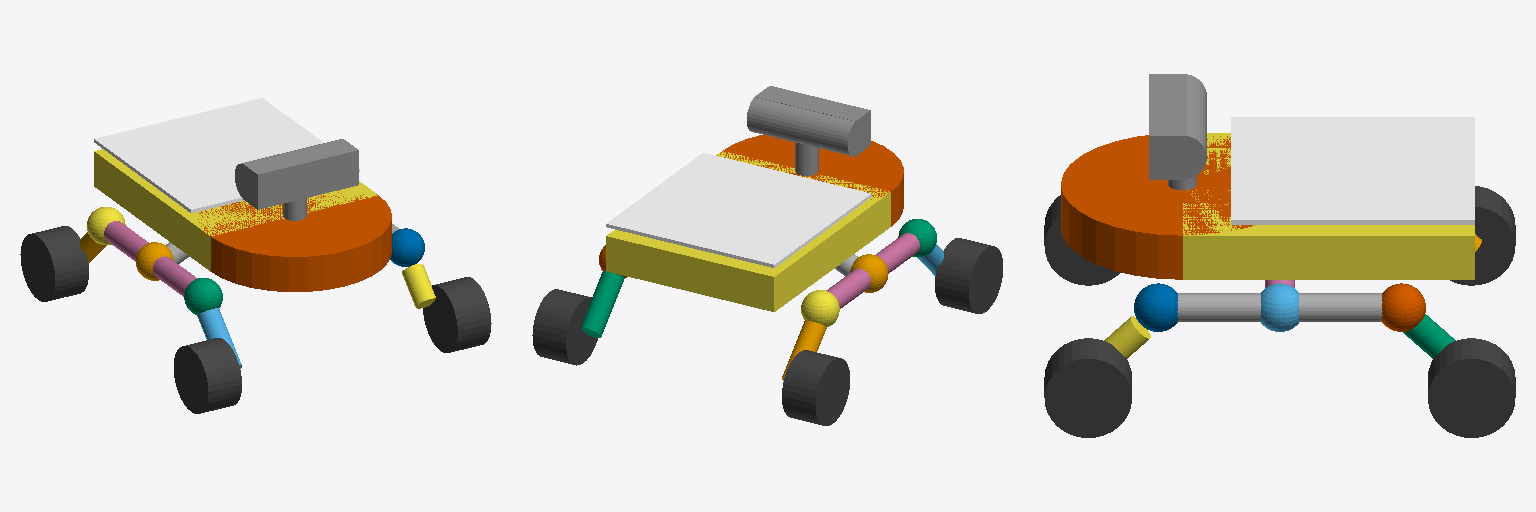
robot.urdf — model:
<?xml version="1.0"?>

<robot name="model">

    <material name=''>
      <color rgba="0.8 0.8 0.8 2"/>
    </material>

    <material name='dgray'>
      <color rgba="0.3 0.3 0.3 2"/>
    </material>

    <material name='white'>
      <color rgba="1 1 1 2"/>
    </material>

    <material name='gray'>
      <color rgba="0.6 0.6 0.6 2"/>
    </material>

    <material name='blue'>
      <color rgba="0.113 0.113 0.466 2"/>
    </material>

    <link name="head_cyll1">
        <visual>
          <geometry>
            <cylinder length="0.15" radius="0.03"/>
          </geometry>
          <origin xyz="0 -0.3 0.1"/>
          <material name='gray'/>
        </visual>
        <inertial>
            <mass value="30"/>
              <inertia ixx="0.4" ixy="0.0" ixz="0.0" iyy="0.4" iyz="0.0" izz="0.2"/>
        </inertial>
    </link>

    <link name="head_cyll2">
        <visual>
          <geometry>
            <cylinder length="0.3" radius="0.05"/>
          </geometry>
          <origin rpy="0 1.57075 0" xyz="0 -0.3 0.18"/>
          <material name='gray'/>
        </visual>
        <inertial>
            <mass value="75"/>
              <inertia ixx="0.4" ixy="0.0" ixz="0.0" iyy="0.4" iyz="0.0" izz="0.2"/>
        </inertial>
    </link>

    <link name="head_box1">
        <visual>
          <geometry>
            <box size="0.3 0.078 0.1"/>
          </geometry>
          <origin xyz="0 -0.33 0.18"/>
          <material name='gray'/>
        </visual>
        <inertial>
            <mass value="200"/>
              <inertia ixx="0.4" ixy="0.0" ixz="0.0" iyy="0.4" iyz="0.0" izz="0.2"/>
        </inertial>
    </link>

    
    <link name="body_box">
        <visual>
          <geometry>
            <box size="0.5 0.6 0.1"/>
          </geometry>
        </visual>
        <collision>
        <geometry>
            <box size="0.5 0.6 0.1"/>
          </geometry>
        </collision>
        <inertial>
            <mass value="300"/>
              <inertia ixx="0.4" ixy="0.0" ixz="0.0" iyy="0.4" iyz="0.0" izz="0.2"/>
        </inertial>
      </link>
    
    <link name="solar_panel">
        <visual>
          <geometry>
            <box size="0.5 0.5 0.01"/>
          </geometry>
          <origin xyz="0 0.05 0.08"/>
          <material name='white'/>
        </visual>
        <collision>
        <geometry>
            <box size="0.5 0.6 0.01"/>
          </geometry>
        </collision>
        <inertial>
            <mass value="10"/>
              <inertia ixx="0.4" ixy="0.0" ixz="0.0" iyy="0.4" iyz="0.0" izz="0.2"/>
        </inertial>
      </link>

    <link name="body_cyll">
        <visual>
          <geometry>
            <cylinder length="0.1" radius="0.25"/>
          </geometry>
          <origin xyz="0 -0.3 0"/>
        </visual>
        <inertial>
            <mass value="200"/>
              <inertia ixx="0.4" ixy="0.0" ixz="0.0" iyy="0.4" iyz="0.0" izz="0.2"/>
        </inertial>
    </link>

    <link name="rwheelbase">
        <visual>
          <geometry>
            <cylinder length="0.25" radius="0.03"/>
          </geometry>
          <origin rpy="0 2 0" xyz="0.2 -0.1 -0.06"/>
        </visual>
        <inertial>
            <mass value="10"/>
              <inertia ixx="0.4" ixy="0.0" ixz="0.0" iyy="0.4" iyz="0.0" izz="0.2"/>
        </inertial>
    </link>

    <link name="lwheelbase">
        <visual>
          <geometry>
            <cylinder length="0.25" radius="0.03"/>
          </geometry>
          <origin rpy="0 -2 0" xyz="-0.2 -0.1 -0.06"/>
        </visual>
        <inertial>
            <mass value="10"/>
              <inertia ixx="0.4" ixy="0.0" ixz="0.0" iyy="0.4" iyz="0.0" izz="0.2"/>
        </inertial>
    </link>

    <link name="lwheelbase_sphere">
        <visual>
          <geometry>
            <sphere radius="0.05"/>
          </geometry>
          <origin xyz="-0.3 -0.1 -0.09"/>
        </visual>
        <inertial>
            <mass value="5"/>
              <inertia ixx="0.4" ixy="0.0" ixz="0.0" iyy="0.4" iyz="0.0" izz="0.2"/>
        </inertial>
    </link>

    <link name="rwheelbase_sphere">
        <visual>
          <geometry>
            <sphere radius="0.05"/>
          </geometry>
          <origin xyz="0.3 -0.1 -0.09"/>
        </visual>
        <inertial>
            <mass value="5"/>
              <inertia ixx="0.4" ixy="0.0" ixz="0.0" iyy="0.4" iyz="0.0" izz="0.2"/>
        </inertial>
    </link>

    <link name="left_lwheel_sphere_to_wheel">
        <visual>
          <geometry>
            <sphere radius="0.05"/>
          </geometry>
          <origin xyz="-0.3 -0.35 -0.09"/>
        </visual>
        <inertial>
            <mass value="5"/>
              <inertia ixx="0.4" ixy="0.0" ixz="0.0" iyy="0.4" iyz="0.0" izz="0.2"/>
        </inertial>
    </link>

    <link name="left_rwheel_sphere_to_wheel">
        <visual>
          <geometry>
            <sphere radius="0.05"/>
          </geometry>
          <origin xyz="-0.3 0.15 -0.09"/>
        </visual>
        <inertial>
            <mass value="5"/>
              <inertia ixx="0.4" ixy="0.0" ixz="0.0" iyy="0.4" iyz="0.0" izz="0.2"/>
        </inertial>
    </link>

    <link name="right_lwheel_sphere_to_wheel">
        <visual>
          <geometry>
            <sphere radius="0.05"/>
          </geometry>
          <origin xyz="0.3 -0.35 -0.09"/>
        </visual>
        <inertial>
            <mass value="5"/>
              <inertia ixx="0.4" ixy="0.0" ixz="0.0" iyy="0.4" iyz="0.0" izz="0.2"/>
        </inertial>
    </link>

    <link name="right_rwheel_sphere_to_wheel">
        <visual>
          <geometry>
            <sphere radius="0.05"/>
          </geometry>
          <origin xyz="0.3 0.15 -0.09"/>
        </visual>
        <inertial>
            <mass value="5"/>
              <inertia ixx="0.4" ixy="0.0" ixz="0.0" iyy="0.4" iyz="0.0" izz="0.2"/>
        </inertial>
    </link>

    <link name="lwheel_cyll">
        <visual>
          <geometry>
            <cylinder length="0.5" radius="0.03"/>
          </geometry>
          <origin rpy="1.57075 0 0" xyz="-0.3 -0.1 -0.09"/>
        </visual>
        <inertial>
            <mass value="10"/>
              <inertia ixx="0.4" ixy="0.0" ixz="0.0" iyy="0.4" iyz="0.0" izz="0.2"/>
        </inertial>
    </link>

    <link name="rwheel_cyll">
        <visual>
          <geometry>
            <cylinder length="0.5" radius="0.03"/>
          </geometry>
          <origin rpy="1.57075 0 0" xyz="0.3 -0.1 -0.09"/>
        </visual>
        <inertial>
            <mass value="10"/>
              <inertia ixx="0.4" ixy="0.0" ixz="0.0" iyy="0.4" iyz="0.0" izz="0.2"/>
        </inertial>
    </link>

    <link name="left_lwheel_cyll">
        <visual>
          <geometry>
            <cylinder length="0.2" radius="0.03"/>
          </geometry>
          <origin xyz="0 0 -0.1"/>
        </visual>
        <collision>
          <geometry>
            <cylinder length="0.2" radius="0.03"/>
          </geometry>
          <origin xyz="0 0 -0.1"/>
        </collision>
        <inertial>
            <mass value="10"/>
              <inertia ixx="0.4" ixy="0.0" ixz="0.0" iyy="0.4" iyz="0.0" izz="0.2"/>
        </inertial>
    </link>

    <link name="right_lwheel_cyll">
        <visual>
          <geometry>
            <cylinder length="0.2" radius="0.03"/>
          </geometry>
          <origin xyz="0 0 -0.1"/>
        </visual>
        <collision>
          <geometry>
              <cylinder length="0.2" radius="0.03"/>
            </geometry>
            <origin xyz="0 0 -0.1"/>
        </collision>
        <inertial>
            <mass value="10"/>
              <inertia ixx="0.4" ixy="0.0" ixz="0.0" iyy="0.4" iyz="0.0" izz="0.2"/>
        </inertial>
    </link>

    <link name="left_rwheel_cyll">
        <visual>
          <geometry>
            <cylinder length="0.2" radius="0.03"/>
          </geometry>
          <origin xyz="0 0 -0.1"/>
        </visual>
        <collision>
          <geometry>
            <cylinder length="0.2" radius="0.03"/>
          </geometry>
          <origin xyz="0 0 -0.1"/>
        </collision>
        <inertial>
            <mass value="10"/>
              <inertia ixx="0.4" ixy="0.0" ixz="0.0" iyy="0.4" iyz="0.0" izz="0.2"/>
        </inertial>
    </link>

    <link name="right_rwheel_cyll">
        <visual>
          <geometry>
            <cylinder length="0.1" radius="0.03"/>
          </geometry>
          <origin xyz="0 0 -0.1"/>
        </visual>
        <collision>
          <geometry>
            <cylinder length="0.1" radius="0.03"/>
          </geometry>
          <origin xyz="0 0 -0.1"/>
        </collision>
        <inertial>
            <mass value="10"/>
              <inertia ixx="0.4" ixy="0.0" ixz="0.0" iyy="0.4" iyz="0.0" izz="0.2"/>
        </inertial>
    </link>

    <link name="rrwheel">
        <visual>
          <geometry>
            <cylinder length="0.1" radius="0.09"/>
          </geometry>
          <origin xyz="0 0 0"/>
          <material name='dgray'/>
        </visual>
        <collision>
          <geometry>
            <cylinder length="0.1" radius="0.09"/>
          </geometry>
          <origin xyz="0 0 0"/>
        </collision>
        <inertial>
            <mass value="75"/>
              <inertia ixx="0.4" ixy="0.0" ixz="0.0" iyy="0.4" iyz="0.0" izz="0.2"/>
        </inertial>
    </link>

    <link name="lrwheel">
        <visual>
          <geometry>
            <cylinder length="0.1" radius="0.09"/>
          </geometry>
          <origin xyz="0 0 0"/>
          <material name='dgray'/>
        </visual>
        <collision>
          <geometry>
            <cylinder length="0.1" radius="0.09"/>
          </geometry>
          <origin xyz="0 0 0"/>
        </collision>
        <inertial>
            <mass value="75"/>
              <inertia ixx="0.4" ixy="0.0" ixz="0.0" iyy="0.4" iyz="0.0" izz="0.2"/>
        </inertial>
    </link>

    <link name="rlwheel">
        <visual>
          <geometry>
            <cylinder length="0.1" radius="0.09"/>
          </geometry>
          <origin xyz="0 0 0"/>
          <material name='dgray'/>
        </visual>
        <collision>
          <geometry>
            <cylinder length="0.1" radius="0.09"/>
          </geometry>
          <origin xyz="0 0 0"/>
        </collision>
        <inertial>
            <mass value="75"/>
              <inertia ixx="0.4" ixy="0.0" ixz="0.0" iyy="0.4" iyz="0.0" izz="0.2"/>
        </inertial>
    </link>

    <link name="rlwheel_sphere">
        <visual>
          <geometry>
            <cylinder length="0.1" radius="0.03"/>
          </geometry>
          <origin xyz="0 0 0"/>
        </visual>
        <inertial>
            <mass value="10"/>
              <inertia ixx="0.4" ixy="0.0" ixz="0.0" iyy="0.4" iyz="0.0" izz="0.2"/>
        </inertial>
    </link>

    <link name="llwheel">
        <visual>
          <geometry>
            <cylinder length="0.1" radius="0.09"/>
          </geometry>
          <origin xyz="0 0 0"/>
          <material name='dgray'/>
        </visual>
        <collision>
          <geometry>
            <cylinder length="0.1" radius="0.09"/>
          </geometry>
          <origin rpy="0 0 0" xyz="0 0 0"/>
        </collision>
        <inertial>
            <mass value="75"/>
              <inertia ixx="0.4" ixy="0.0" ixz="0.0" iyy="0.4" iyz="0.0" izz="0.2"/>
        </inertial>
    </link>

    <link name="llwheel_sphere">
        <visual>
          <geometry>
            <sphere radius="0.03"/>
          </geometry>
          <origin xyz="0 0 0"/>
        </visual>
        <inertial>
            <mass value="10"/>
              <inertia ixx="0.4" ixy="0.0" ixz="0.0" iyy="0.4" iyz="0.0" izz="0.2"/>
        </inertial>
    </link>

      <joint name="ll_cyl_to_llwheel_sphere" type="revolute">
        <axis xyz="0 1 0"/>
        <limit upper="0" lower="-0.5" velocity="2" effort="1"/>
        <origin xyz="-0.07 0 -0.2"/>
        <parent link="left_lwheel_cyll"/>
        <child link="llwheel_sphere"/>
      </joint>

      <joint name="llwheel_sphere_to_llwheel" type="revolute">
        <limit upper="0" lower="1" velocity="2" effort="1"/>
        <axis xyz="0 0 1"/>
        <origin rpy="0 1.57075 0"/>
        <parent link="llwheel_sphere"/>
        <child link="llwheel"/>
      </joint>

      <joint name="rl_cyl_to_rlwheel_sphere" type="revolute">
        <axis xyz="0 1 0"/>
        <limit upper="0" lower="-0.5" velocity="2" effort="1"/>
        <origin xyz="-0.07 0 -0.2"/>
        <parent link="right_lwheel_cyll"/>
        <child link="rlwheel_sphere"/>
      </joint>

      <joint name="rlwheel_sphere_to_rlwheel" type="revolute">
        <limit upper="0" lower="1" velocity="2" effort="1"/>
        <axis xyz="0 0 1"/>
        <origin rpy="0 1.57075 0"/>
        <parent link="rlwheel_sphere"/>
        <child link="rlwheel"/>
      </joint>

    <joint name="rr_cyl_to_rrwheel" type="revolute">
        <limit upper="0" lower="1" velocity="2" effort="1"/>
        <axis xyz="0 0 1"/>
        <origin rpy="0 1.57075 0" xyz="0.07 0 -0.2"/>
        <parent link="right_rwheel_cyll"/>
        <child link="rrwheel"/>
      </joint>

    <joint name="lr_cyl_to_lrwheel" type="revolute">
        <limit upper="0" lower="1" velocity="2" effort="1"/>
        <axis xyz="0 0 1"/>
        <origin rpy="0 1.57075 0" xyz="0.07 0 -0.2"/>
        <parent link="left_rwheel_cyll"/>
        <child link="lrwheel"/>
      </joint>


    <joint name="left_lwheel_cyll_to_left_lwheel_sphere" type="revolute">
        <origin rpy="0.8 0 0" xyz="-0.3 0.15 -0.1"/>
        <limit upper="0.25" lower="-0.25" velocity="2" effort="1"/>
        <parent link="left_lwheel_sphere_to_wheel"/>
        <child link="left_lwheel_cyll"/>
      </joint>

    <joint name="left_lwheel_cyll_to_right_lwheel_sphere" type="revolute">
        <origin rpy="-0.8 0 0" xyz="-0.3 -0.35 -0.1"/>
        <limit upper="0.25" lower="-0.25" velocity="2" effort="1"/>
        <parent link="left_lwheel_sphere_to_wheel"/>
        <child link="right_lwheel_cyll"/>
      </joint>

    <joint name="rwheel_cyll_to_left_rwheel_sphere" type="revolute">
        <origin rpy="0.8 0 0" xyz="0.3 0.15 -0.1"/>
        <limit upper="0.25" lower="-0.25" velocity="2" effort="1"/>
        <parent link="left_rwheel_sphere_to_wheel"/>
        <child link="left_rwheel_cyll"/>
      </joint>

    <joint name="rwheel_cyll_to_right_rwheel_sphere" type="revolute">
        <origin rpy="-0.8 0 0" xyz="0.3 -0.35 -0.1"/>
        <limit upper="0.25" lower="-0.25" velocity="2" effort="1"/>
        <parent link="right_rwheel_sphere_to_wheel"/>
        <child link="right_rwheel_cyll"/>
      </joint>

    <joint name="lwheel_cyll_to_left_lwheel_sphere" type="fixed">
        <parent link="lwheel_cyll"/>
        <child link="left_lwheel_sphere_to_wheel"/>
      </joint>

    <joint name="lwheel_cyll_to_right_lwheel_sphere" type="fixed">
        <parent link="lwheel_cyll"/>
        <child link="right_lwheel_sphere_to_wheel"/>
      </joint>

    <joint name="rwheel_cyll_to_left_lwheel_sphere" type="fixed">
        <parent link="rwheel_cyll"/>
        <child link="left_rwheel_sphere_to_wheel"/>
      </joint>

    <joint name="rwheel_cyll_to_right_lwheel_sphere" type="fixed">
        <parent link="rwheel_cyll"/>
        <child link="right_rwheel_sphere_to_wheel"/>
      </joint>

    <joint name="lwheelbase_to_sphere_joint" type="fixed">
        <parent link="lwheelbase"/>
        <child link="lwheelbase_sphere"/>
      </joint>

    <joint name="rwheelbase_joint_to_rwheel_cyll" type="fixed">
        <parent link="rwheelbase"/>
        <child link="rwheel_cyll"/>
      </joint>

    <joint name="lwheelbase_joint_to_lwheel_cyll" type="fixed">
        <parent link="lwheelbase"/>
        <child link="lwheel_cyll"/>
      </joint>

    <joint name="rwheelbase_to_sphere_joint" type="fixed">
        <parent link="rwheelbase"/>
        <child link="rwheelbase_sphere"/>
      </joint>

    <joint name="lwheelbase_to_body" type="fixed">
        <parent link="body_box"/>
        <child link="lwheelbase"/>
      </joint>

    <joint name="body_to_panel" type="fixed">
        <parent link="body_box"/>
        <child link="solar_panel"/>
      </joint>

    <joint name="rwheelbase_to_body" type="fixed">
        <parent link="body_box"/>
        <child link="rwheelbase"/>
      </joint>
    
      <joint name="base_to_head" type="fixed">
        <parent link="body_box"/>
        <child link="head_cyll1"/>
      </joint>

      <joint name="base_to_cyll" type="fixed">
        <parent link="body_box"/>
        <child link="body_cyll"/>
      </joint>

      <joint name="head_to_head" type="fixed">
        <parent link="head_cyll1"/>
        <child link="head_cyll2"/>
      </joint>

      <joint name="head_to_box" type="fixed">
        <parent link="head_cyll2"/>
        <child link="head_box1"/>
      </joint>
    
    </robot>

--- Facts derived from the render (not from the file) ---
3 views of the same robot in one strip: view 1: azimuth 30°, elevation 25°; view 2: azimuth 150°, elevation 25°; view 3: azimuth 270°, elevation 25° (orthographic).
Model model with 26 links and 25 joints (10 revolute, 15 fixed), rooted at body_box, posed all joints at 0.
Visible links, largest first — view 1: body_cyll, solar_panel, body_box, head_box1, rlwheel, llwheel, rrwheel, lwheel_cyll, left_lwheel_sphere_to_wheel, right_lwheel_sphere_to_wheel, right_rwheel_cyll, left_rwheel_sphere_to_wheel (+2 smaller); view 2: solar_panel, body_box, body_cyll, llwheel, rlwheel, head_cyll2, lrwheel, head_box1, lwheel_cyll, left_rwheel_cyll, left_rwheel_sphere_to_wheel, left_lwheel_sphere_to_wheel (+3 smaller); view 3: solar_panel, body_box, body_cyll, rrwheel, lrwheel, rwheel_cyll, head_box1, llwheel, rlwheel, head_cyll2, right_lwheel_sphere_to_wheel, right_rwheel_sphere_to_wheel (+3 smaller).
Boxes of the visible links, x1,y1,x2,y2 form: body_cyll: [198, 190, 391, 291]; solar_panel: [94, 98, 359, 212]; body_box: [94, 149, 377, 271]; head_box1: [243, 139, 358, 209]; rlwheel: [174, 338, 241, 413]; llwheel: [20, 226, 88, 301]; rrwheel: [423, 277, 491, 352]; lwheel_cyll: [104, 221, 197, 296]; left_lwheel_sphere_to_wheel: [184, 278, 222, 314]; right_lwheel_sphere_to_wheel: [390, 228, 424, 266]; right_rwheel_cyll: [402, 264, 435, 308]; left_rwheel_sphere_to_wheel: [87, 207, 125, 244]; solar_panel: [606, 153, 871, 267]; body_box: [606, 151, 890, 311]; body_cyll: [717, 135, 903, 226]; llwheel: [782, 350, 849, 425]; rlwheel: [935, 238, 1002, 313]; head_cyll2: [747, 97, 866, 156]; lrwheel: [532, 289, 597, 365]; head_box1: [755, 86, 870, 156]; lwheel_cyll: [826, 233, 919, 308]; left_rwheel_cyll: [581, 271, 624, 337]; left_rwheel_sphere_to_wheel: [801, 290, 839, 326]; left_lwheel_sphere_to_wheel: [898, 219, 936, 257]; solar_panel: [1231, 117, 1474, 224]; body_box: [1183, 133, 1474, 279]; body_cyll: [1061, 135, 1254, 279]; rrwheel: [1044, 338, 1131, 437]; lrwheel: [1428, 338, 1515, 437]; rwheel_cyll: [1177, 293, 1382, 321]; head_box1: [1149, 74, 1186, 179]; llwheel: [1450, 186, 1515, 285]; rlwheel: [1044, 195, 1120, 285]; head_cyll2: [1158, 74, 1206, 179]; right_lwheel_sphere_to_wheel: [1134, 283, 1177, 331]; right_rwheel_sphere_to_wheel: [1382, 283, 1425, 331].
Bounding box of the posed robot: 0.84 × 0.9669 × 0.5593 m (x, y, z).
Geometry: primitives only (box / cylinder / sphere), no mesh files.
